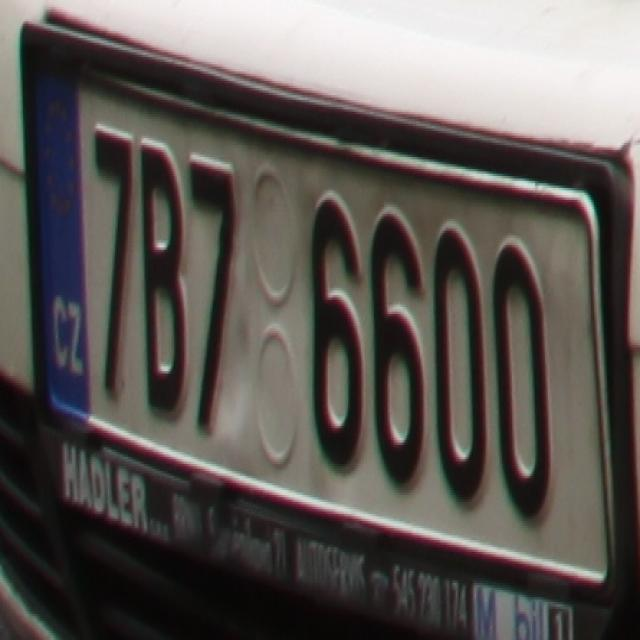0: (430, 216, 489, 507), (492, 235, 552, 514)
6: (369, 200, 428, 492), (310, 183, 366, 476)
7: (187, 155, 232, 433), (94, 121, 135, 392)
B: (141, 138, 187, 416)
